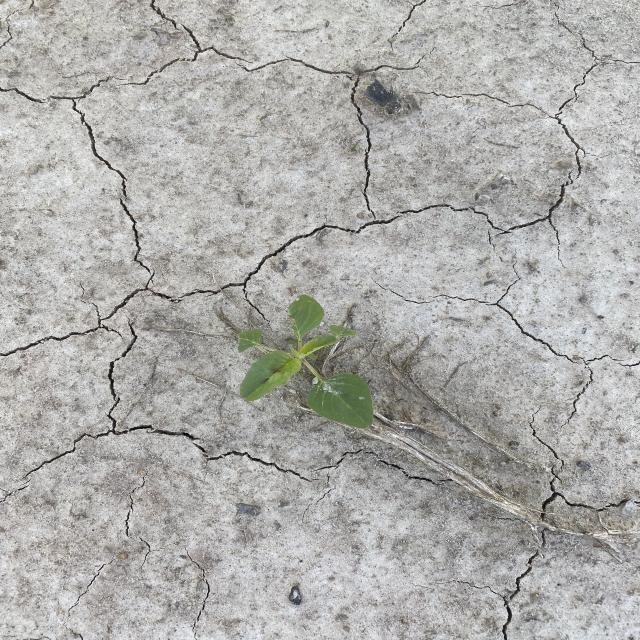PalmerAmaranth: (234, 292, 376, 431)
